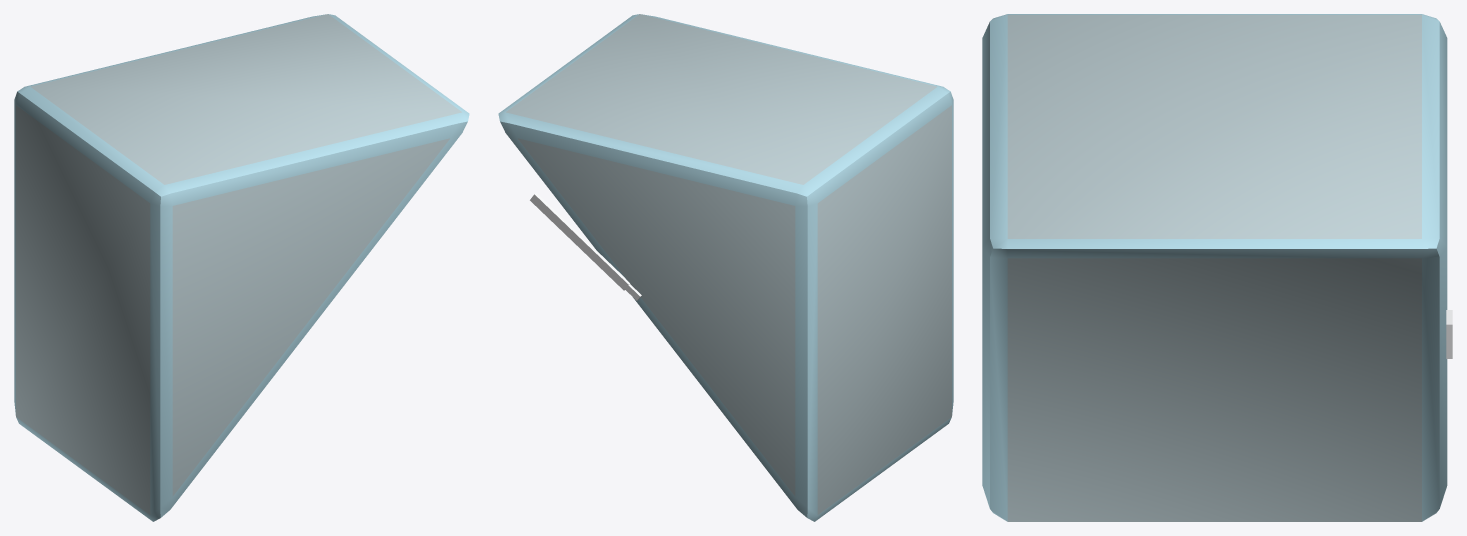
The model's file is TriangleMediumIce.fbx.
3 renders of one model, left to right at view 1: azimuth 30°, elevation 25°; view 2: azimuth 150°, elevation 25°; view 3: azimuth 270°, elevation 25°, orthographic. The views are drawn at different scales.
Visible parts, largest first — view 1: TriangleMediumIce; view 2: TriangleMediumIce; view 3: TriangleMediumIce.
Boxes of the visible parts, x1,y1,x2,y2 form: TriangleMediumIce: [14, 14, 469, 521]; TriangleMediumIce: [498, 14, 953, 521]; TriangleMediumIce: [982, 14, 1452, 521].
Size of the model in its own units: 2.69 by 2.69 by 2.23.
